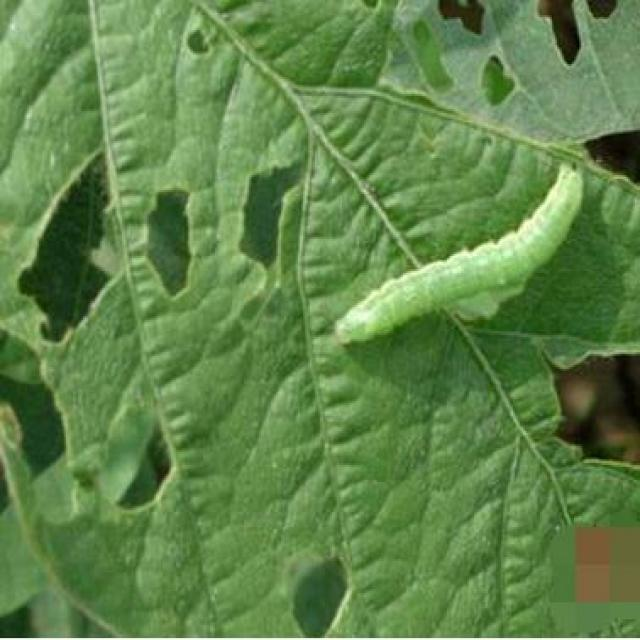BeetArmyWorm-Larva-: (332, 165, 596, 354)
